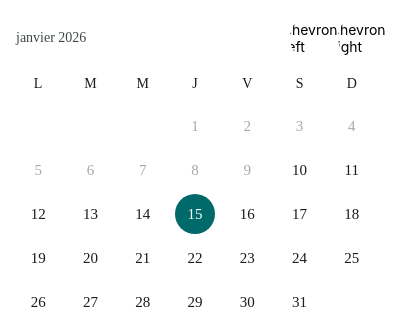
Test case: composants de saisie › KitCalendar : bornes désactivées et navigation
Step 1. Click the button with aria-label "Mois suivant" → (362, 38), box left=338, top=14, right=386, bottom=62
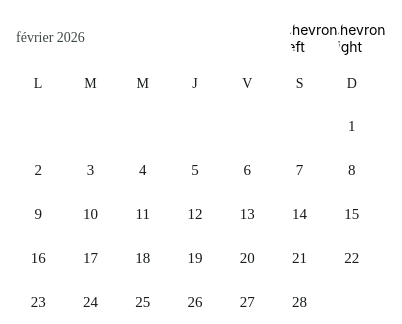
Now the text "février 2026" is shown, box left=16, top=30, right=85, bottom=46
